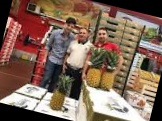Pineapple: (50, 73, 74, 112), (100, 48, 122, 90), (86, 48, 103, 90)
